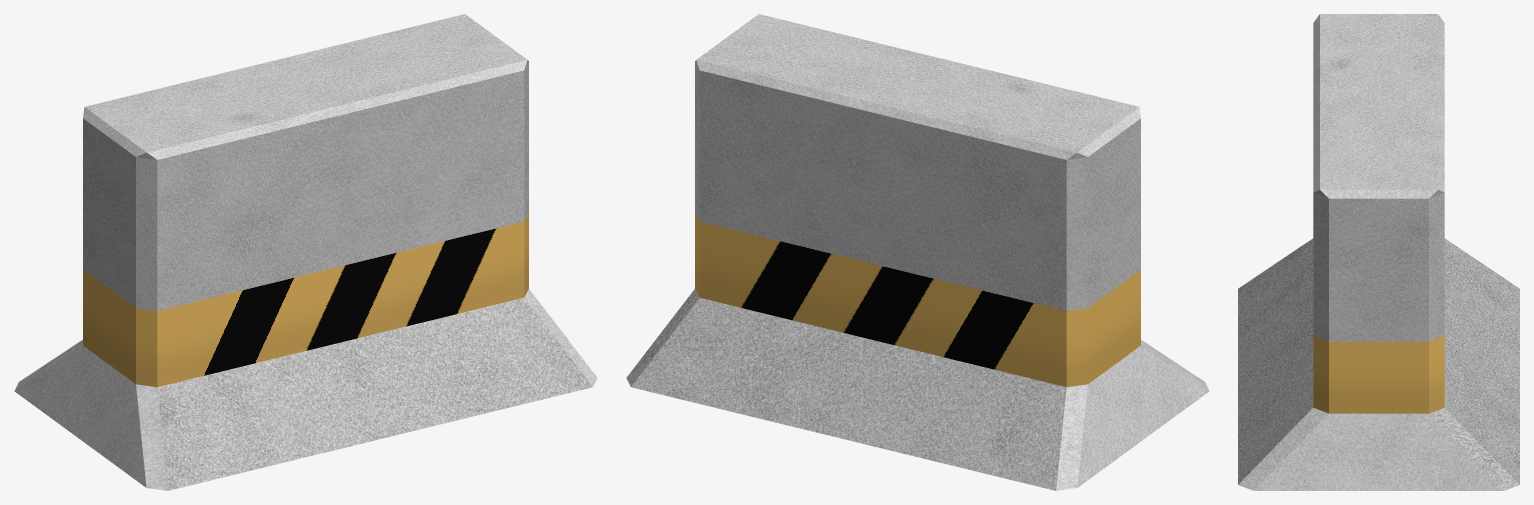
File: Roadblock.fbx
3 views of the same model, side by side, from view 1: azimuth 30°, elevation 25°; view 2: azimuth 150°, elevation 25°; view 3: azimuth 270°, elevation 25° (orthographic). The views are drawn at different scales.
Visible parts, largest first — view 1: Roadblock; view 2: Roadblock; view 3: Roadblock.
Boxes of the visible parts, x1=… form: Roadblock: x1=14, y1=14, x2=597, y2=490; Roadblock: x1=626, y1=14, x2=1209, y2=490; Roadblock: x1=1238, y1=14, x2=1519, y2=490.
Size of the model in its own units: 230 by 131 by 147.
